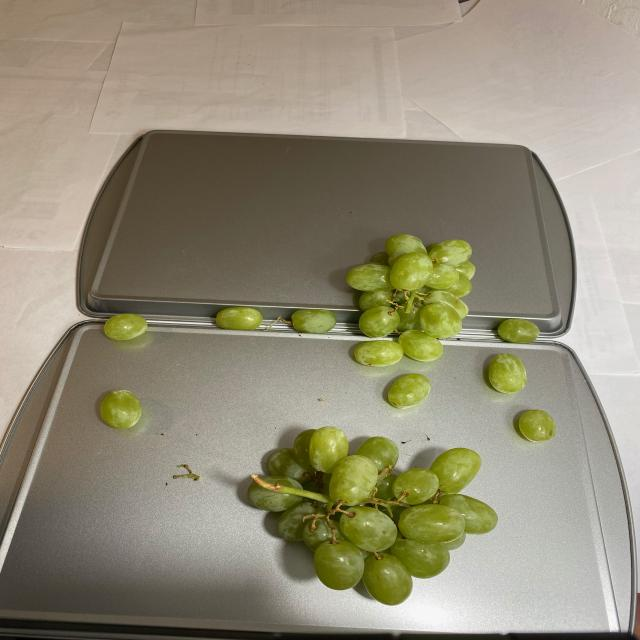grapes: (251, 237, 546, 600), (99, 311, 151, 428)
